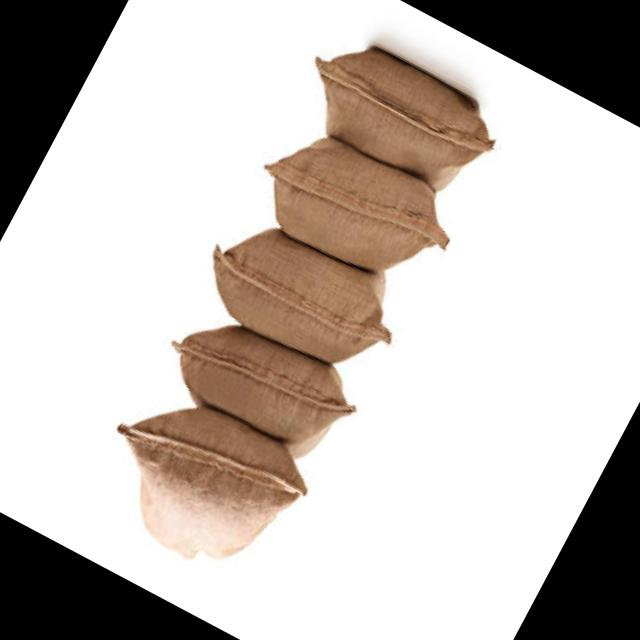KantongSemen: (74, 19, 516, 602)
